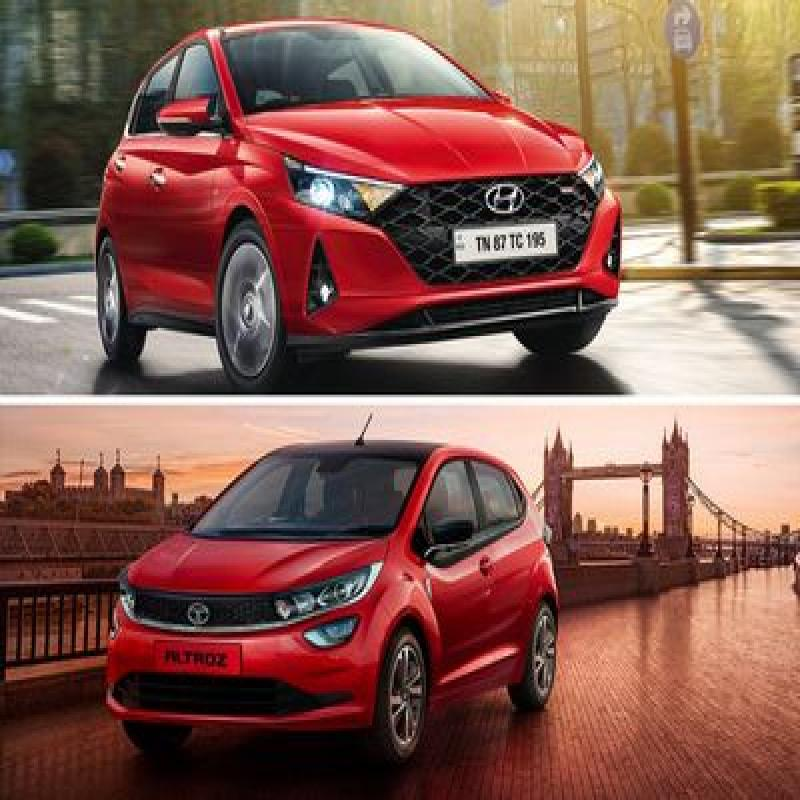car: (62, 21, 636, 344), (85, 427, 565, 763)
